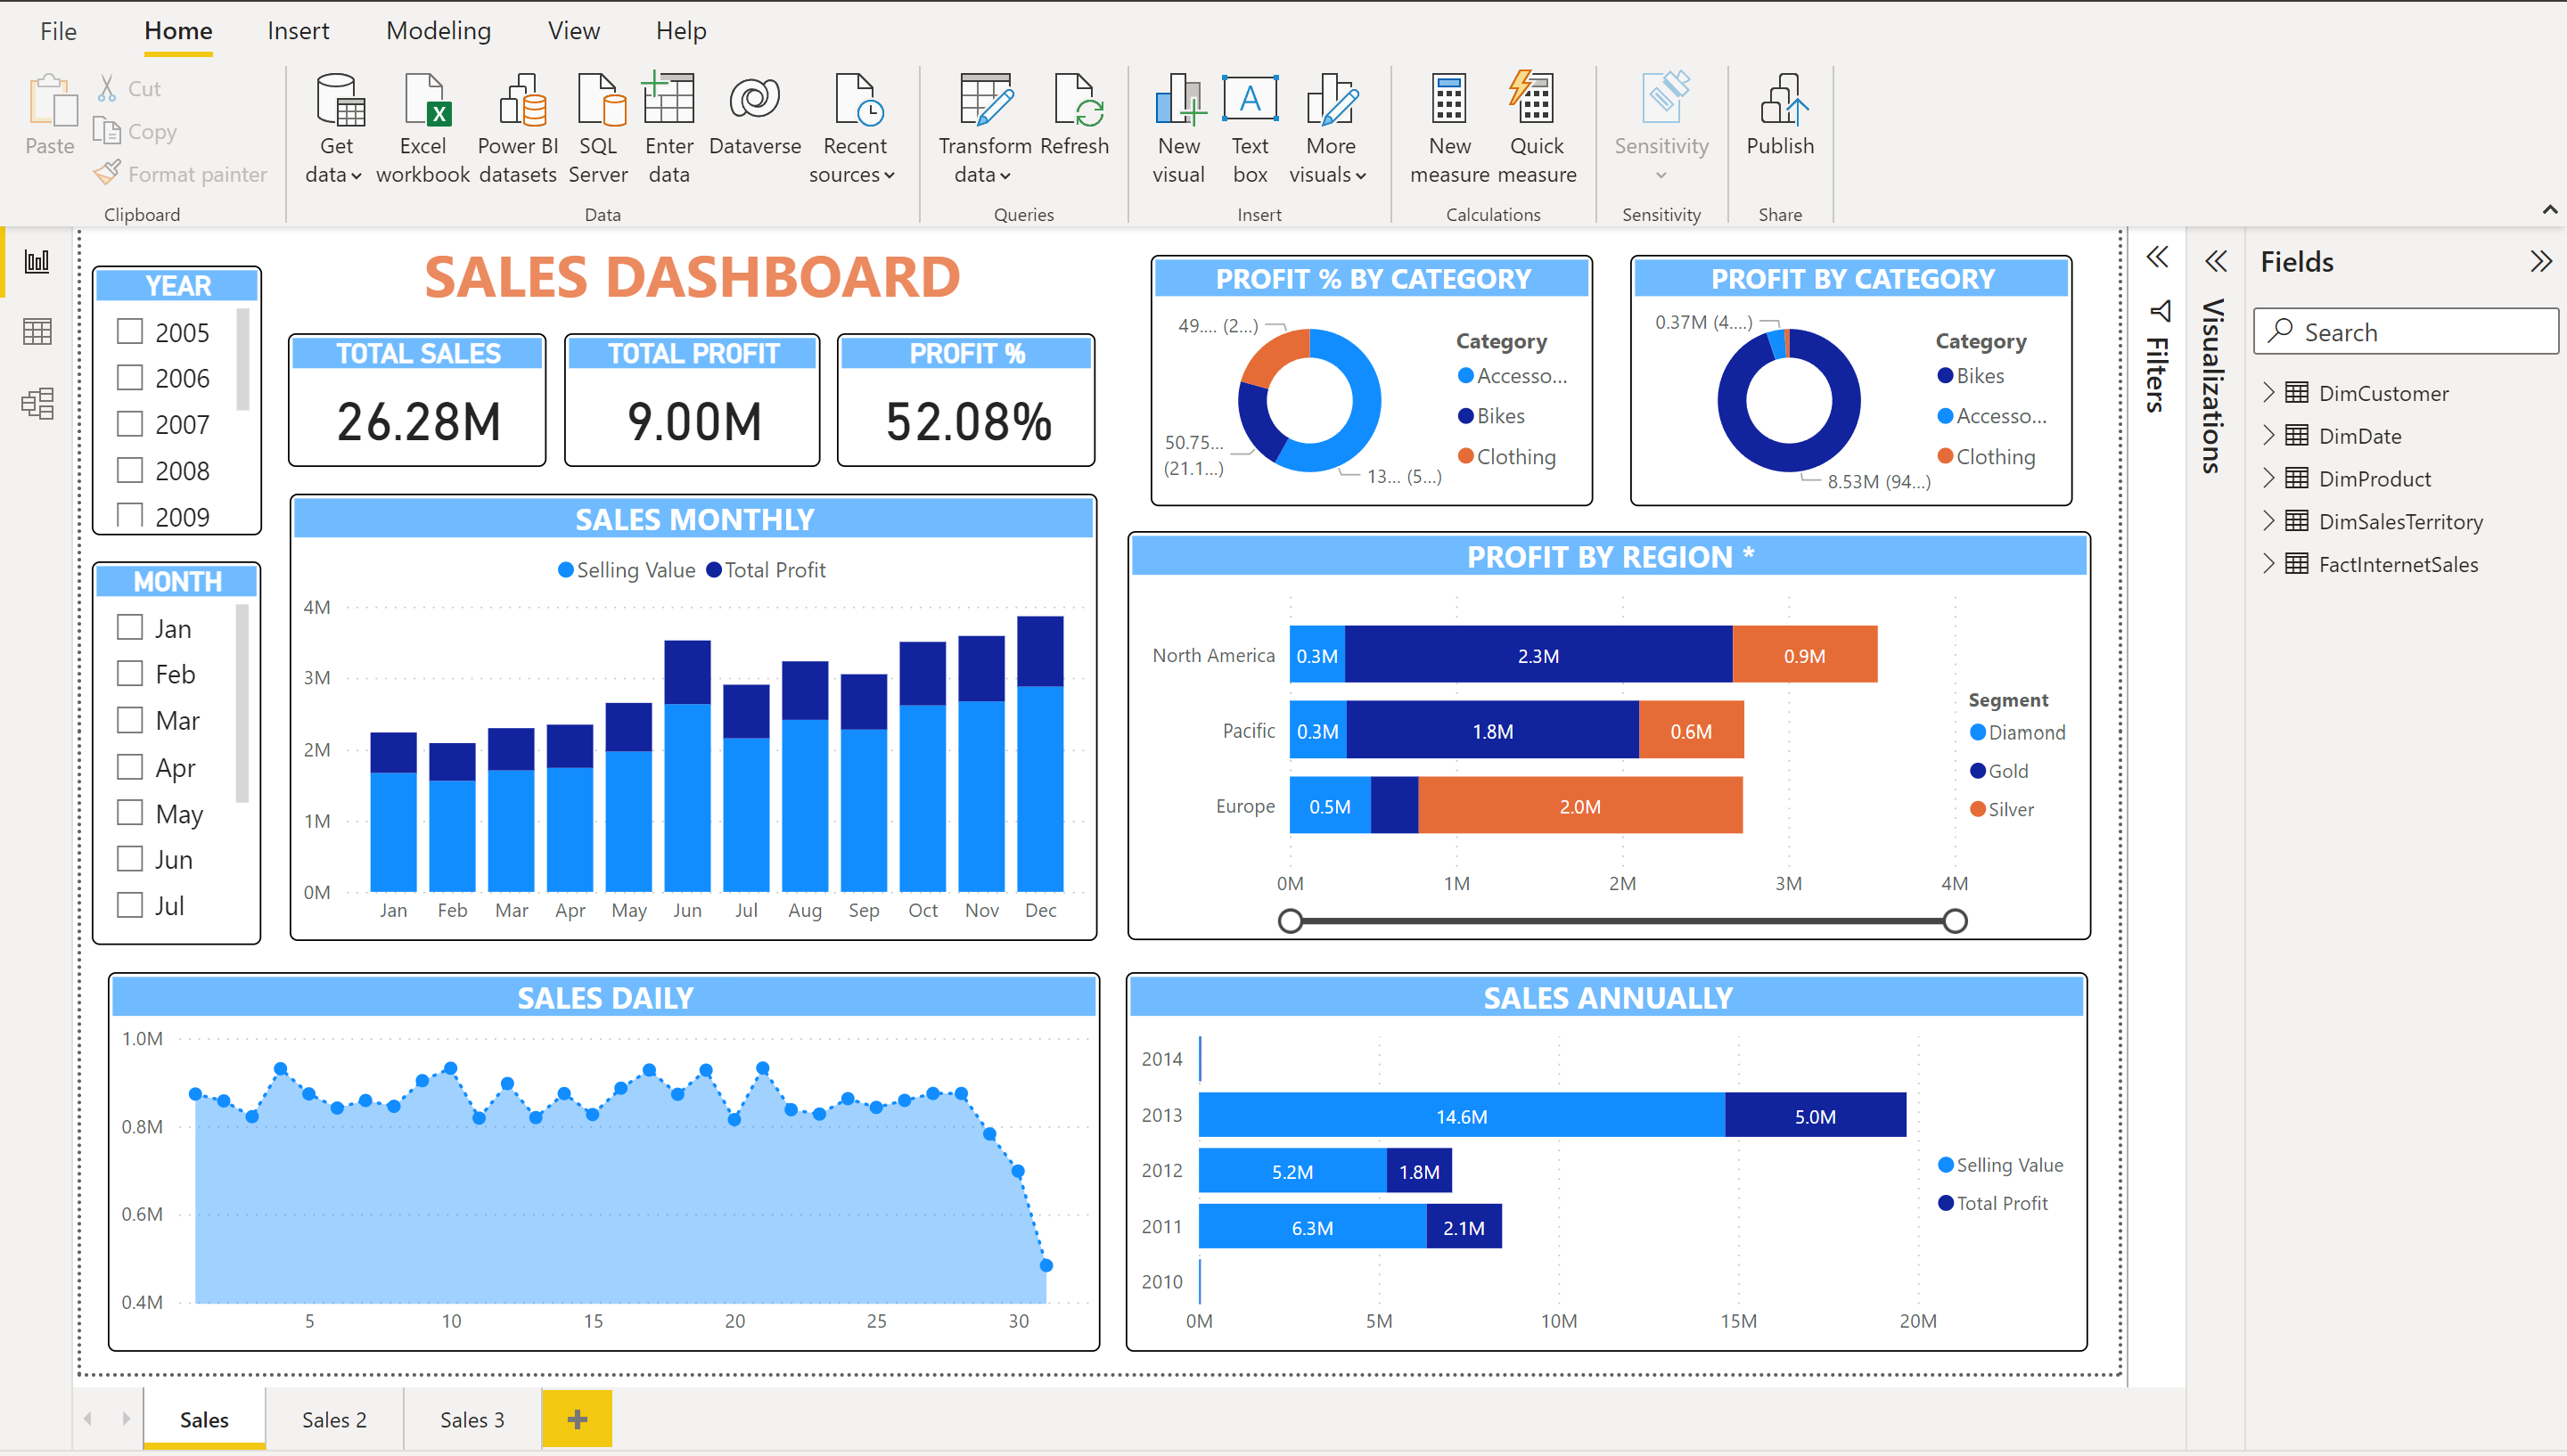

Layout of this report page (visuals, bound fields, positions):
{"tool":"powerbi","page":{"name":"Sales","canvas":[1280,720],"ordinal":0},"visuals":[{"type":"slicer","title":"YEAR","fields":{"Values":["DimDate.Year"]},"box":[6.4,24.2,107.1,169.6],"z":0},{"type":"slicer","title":"MONTH","fields":{"Values":["DimDate.Month Name"]},"box":[6.7,210.5,106.4,240.7],"z":1000},{"type":"card","title":"TOTAL SALES","fields":{"Values":["Sum(FactInternetSales.Selling Value)"]},"box":[130.2,67.6,162.4,84],"z":2000},{"type":"card","title":"TOTAL PROFIT","fields":{"Values":["FactInternetSales.Total Profit"]},"box":[303.8,67.6,161.2,84],"z":3000},{"type":"card","title":"PROFIT %","fields":{"Values":["FactInternetSales.Total Profit Pct"]},"box":[475.1,67.6,162.4,84],"z":4000},{"type":"columnChart","title":"SALES MONTHLY","fields":{"Category":["DimDate.Month Name"],"Y":["Sum(FactInternetSales.Selling Value)","FactInternetSales.Total Profit"]},"box":[131.3,168.3,507.4,280.5],"z":5000},{"type":"areaChart","title":"SALES DAILY","fields":{"Y":["Sum(FactInternetSales.Selling Value)"],"Category":["DimDate.Day"]},"box":[16.6,467.9,623.4,238.4],"z":6000},{"type":"donutChart","title":"PROFIT BY CATEGORY","fields":{"Y":["FactInternetSales.Total Profit"],"Category":["DimProduct.Product Category"]},"box":[973,17.8,277.9,158.1],"z":7000},{"type":"barChart","title":"PROFIT BY REGION *","fields":{"Category":["DimSalesTerritory.Group Hierarchy.Group","DimSalesTerritory.Group Hierarchy.Country","DimSalesTerritory.Group Hierarchy.Region"],"Y":["FactInternetSales.Total Profit"],"Series":["DimCustomer.Segment"]},"box":[657,192,605.6,256.3],"z":8000},{"type":"barChart","title":"SALES ANNUALLY","fields":{"Category":["DimDate.Year"],"Y":["Sum(FactInternetSales.Selling Value)","FactInternetSales.Total Profit"]},"box":[656,468.1,604.7,238.5],"z":9000},{"type":"donutChart","title":"PROFIT % BY CATEGORY","fields":{"Y":["FactInternetSales.Total Profit Pct"],"Category":["DimProduct.Product Category"]},"box":[672,17.8,277.9,158.1],"z":10000},{"type":"actionButton","title":"SALES DASHBOARD","box":[175.9,0,416.9,58.6],"z":11000}]}

Visuals, with their boxes on the page's 1280x720 design canvas (x1, y1, x2, y2). These are canvas units, not pixel positions in the 2567x1456 screenshot, which may show the page scaled, cropped or inside an application window:
"YEAR" slicer: region(6, 24, 114, 194)
"MONTH" slicer: region(7, 210, 113, 451)
"TOTAL SALES" card: region(130, 68, 293, 152)
"TOTAL PROFIT" card: region(304, 68, 465, 152)
"PROFIT %" card: region(475, 68, 638, 152)
"SALES MONTHLY" columnChart: region(131, 168, 639, 449)
"SALES DAILY" areaChart: region(17, 468, 640, 706)
"PROFIT BY CATEGORY" donutChart: region(973, 18, 1251, 176)
"PROFIT BY REGION *" barChart: region(657, 192, 1263, 448)
"SALES ANNUALLY" barChart: region(656, 468, 1261, 707)
"PROFIT % BY CATEGORY" donutChart: region(672, 18, 950, 176)
"SALES DASHBOARD" actionButton: region(176, 0, 593, 59)
